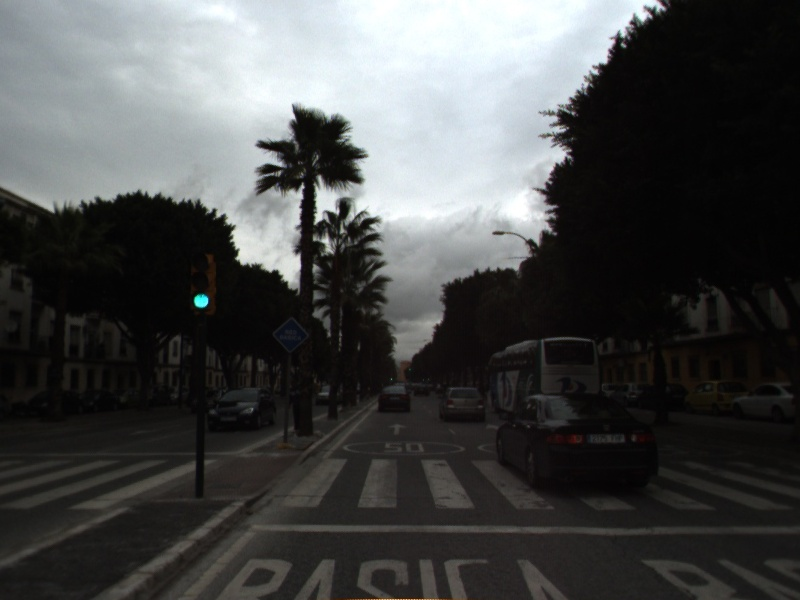STRAIGHT: (386, 420, 410, 437)
